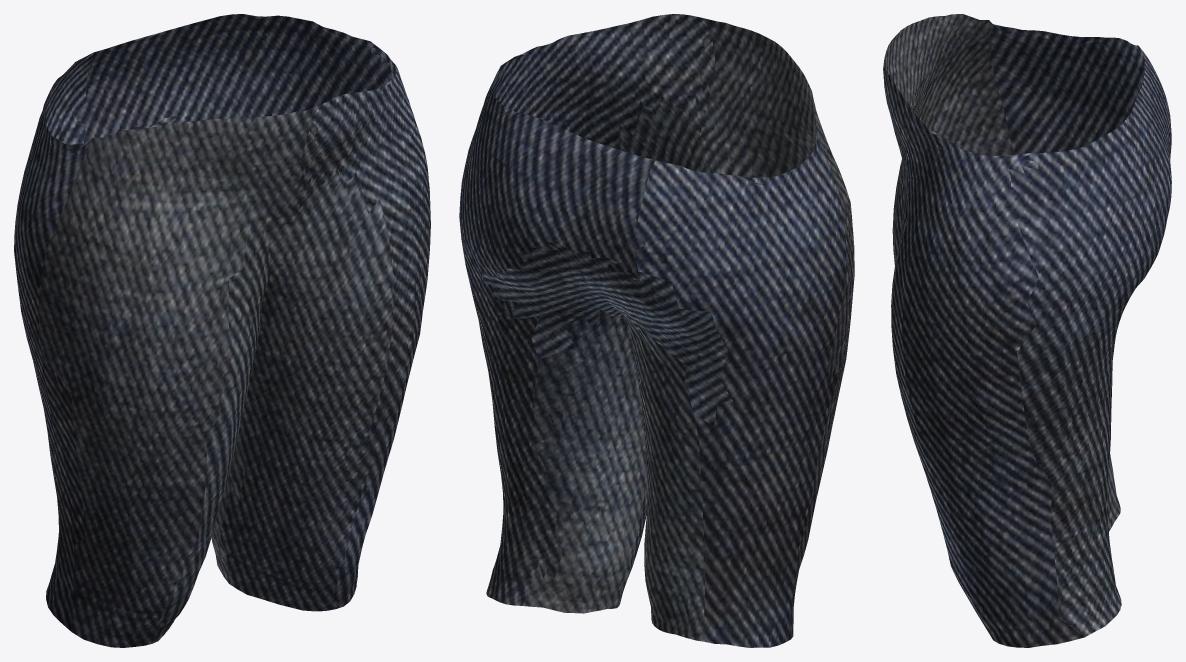
The model's file is lowergar.obj.
3 views of the same model, side by side, from view 1: azimuth 30°, elevation 25°; view 2: azimuth 150°, elevation 25°; view 3: azimuth 270°, elevation 25° (orthographic). The views are drawn at different scales.
Visible parts, largest first — view 1: lowergar; view 2: lowergar; view 3: lowergar.
Part boxes in pixels (x1=…): lowergar: x1=14, y1=14, x2=430, y2=647; lowergar: x1=459, y1=14, x2=854, y2=647; lowergar: x1=883, y1=14, x2=1171, y2=647.
Size of the model in its own units: 0.4115 by 0.59 by 0.2894.
Materials: 1 (1 with a texture image).
